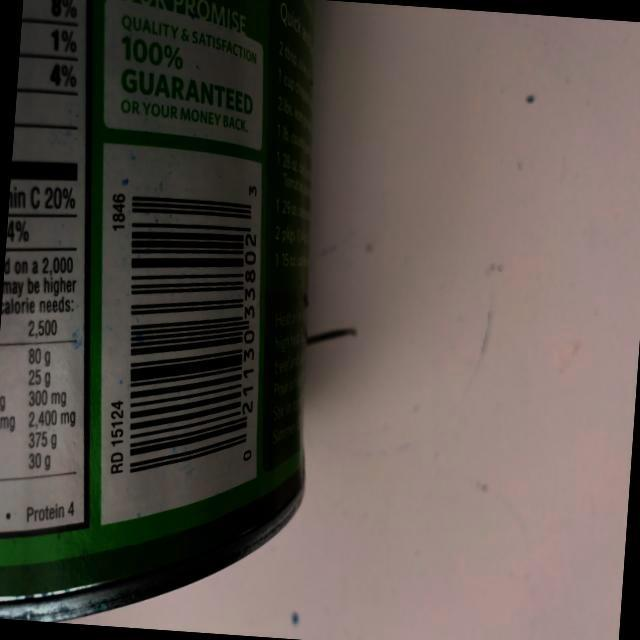metal: (0, 0, 343, 639)
